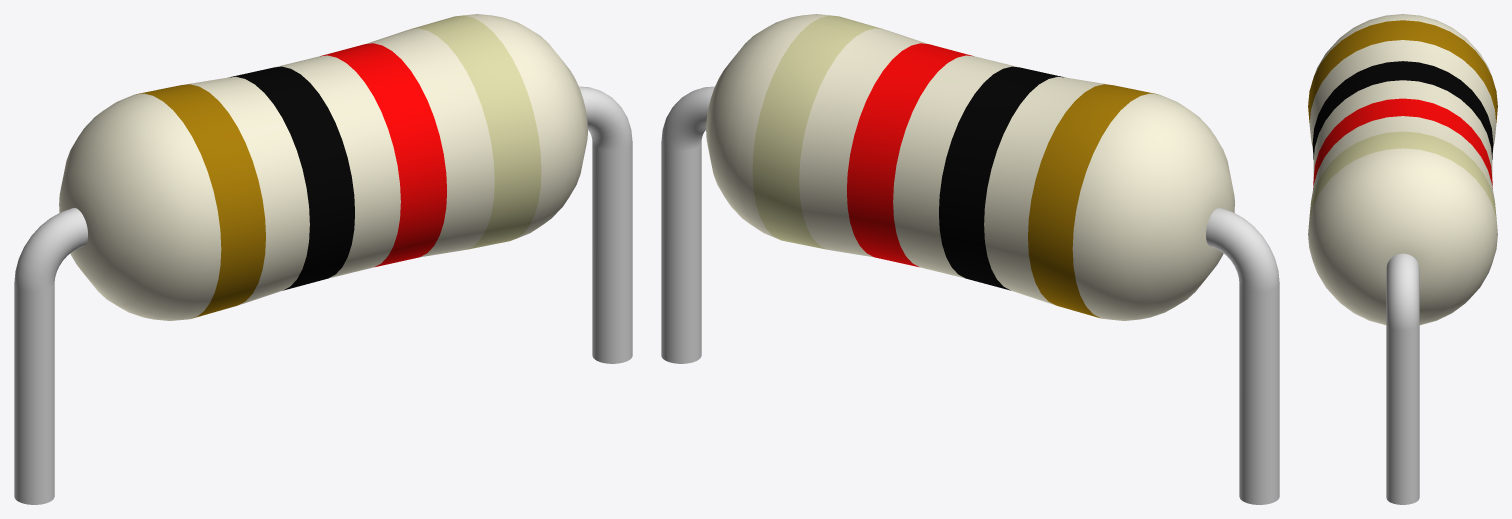
The model's file is Axial0_4_1K.fbx.
The picture shows the model from 3 angles, left to right: view 1: azimuth 30°, elevation 25°; view 2: azimuth 150°, elevation 25°; view 3: azimuth 270°, elevation 25°; orthographic projection. The views are drawn at different scales.
Visible parts, largest first — view 1: Axial0_4_1K; view 2: Axial0_4_1K; view 3: Axial0_4_1K.
Part boxes in pixels (x1,y1,x2,y2): Axial0_4_1K: (14,14,632,504); Axial0_4_1K: (661,14,1279,504); Axial0_4_1K: (1308,14,1497,504).
Bounding box in the file's own units: 1.07 × 0.6072 × 0.3507.
